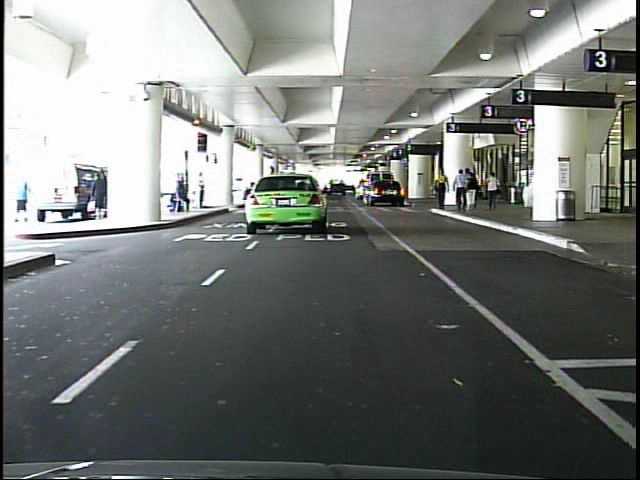person: (14, 167, 38, 228), (93, 170, 115, 220), (429, 166, 451, 215), (481, 169, 503, 218), (452, 166, 472, 216), (196, 170, 211, 213), (466, 171, 481, 214)
